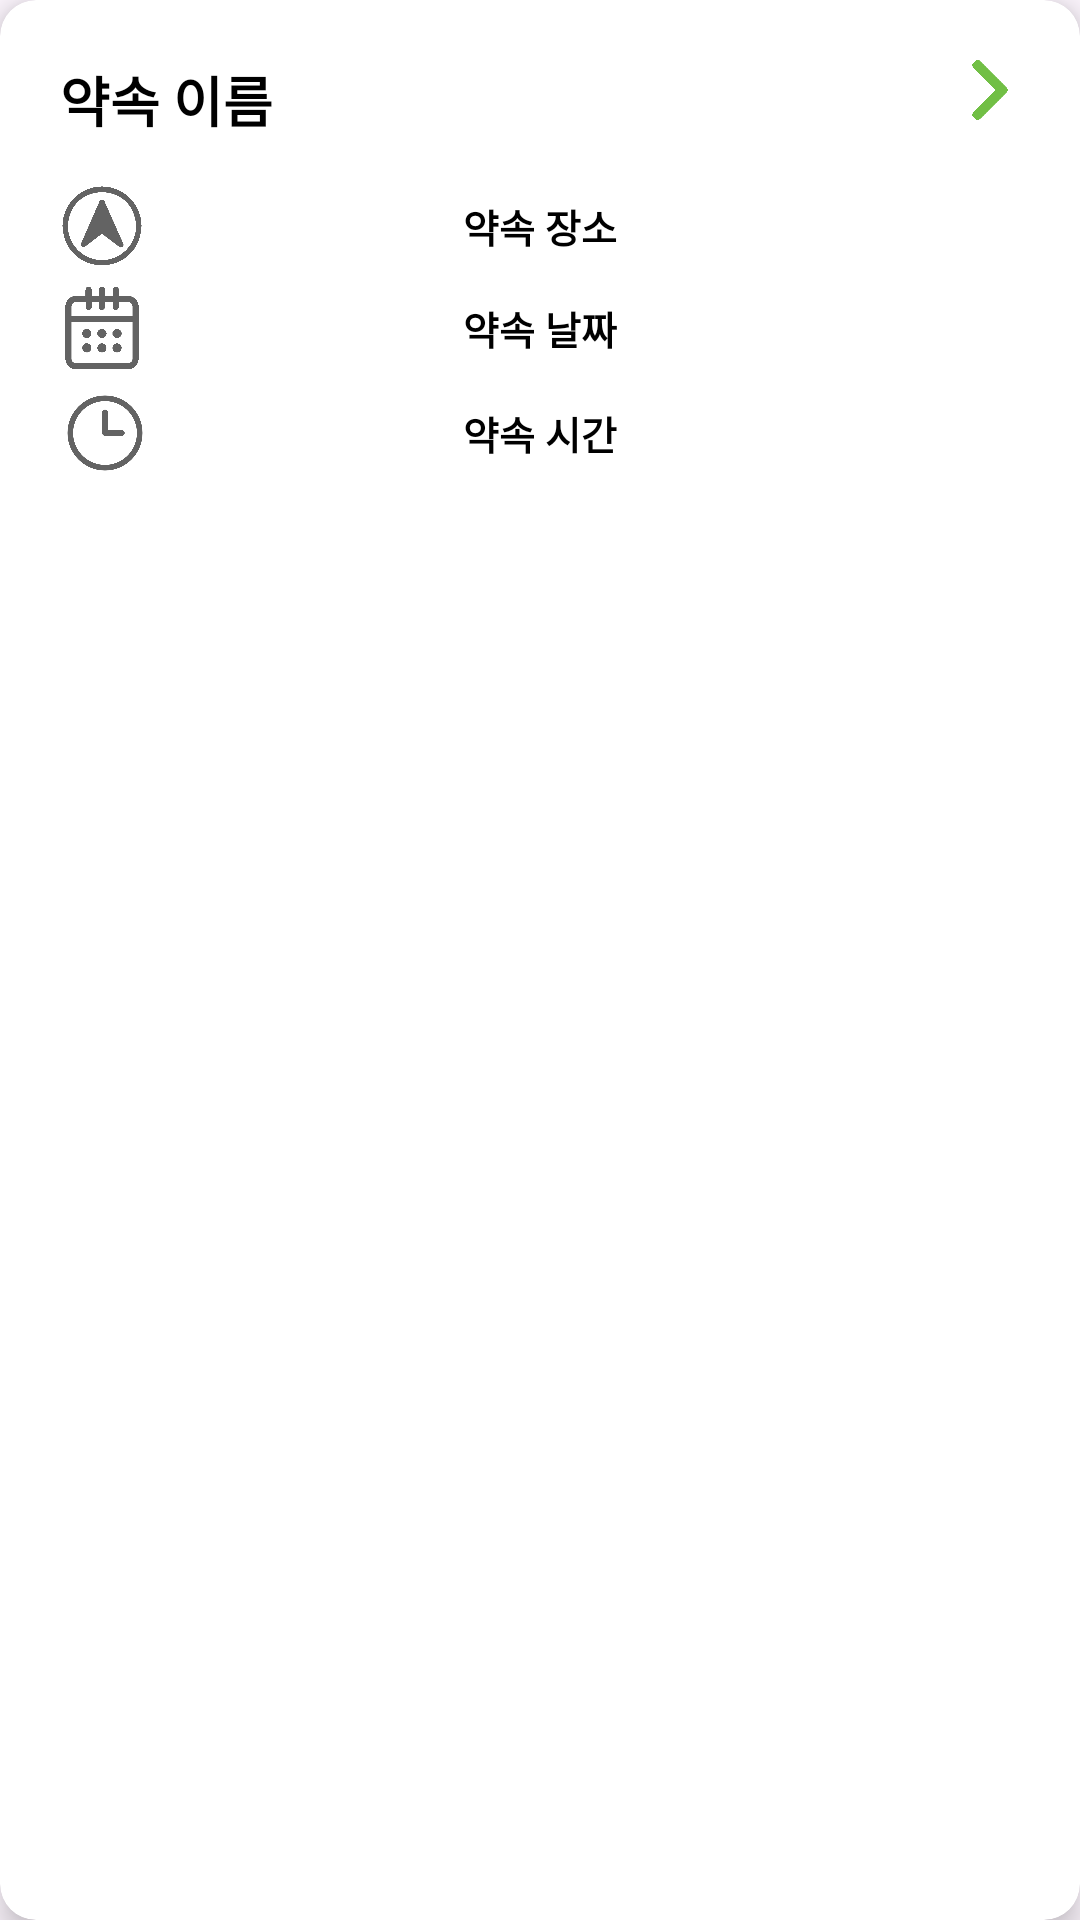

Where to tap for icons on this 1080 x 1920 app screen, as point (x, y):
date: point (102, 328)
gps navigation: point (102, 225)
right arrow: point (990, 90)
time: point (105, 433)
